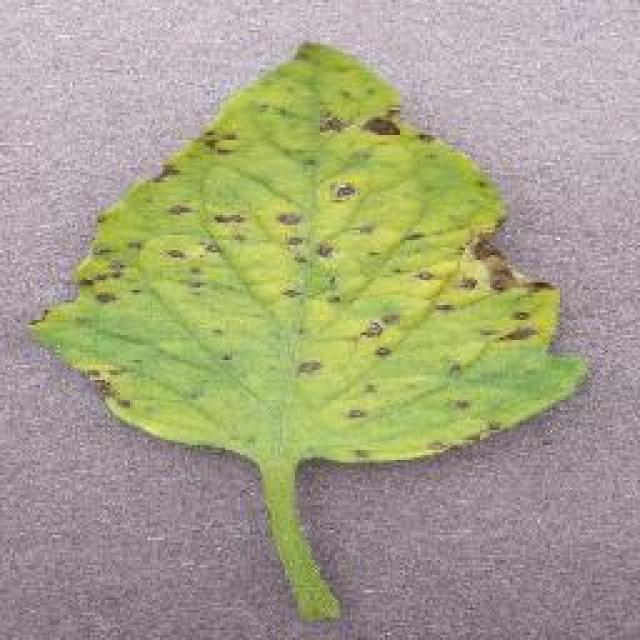Tomato Septoria spot leaf: (41, 40, 588, 465)
